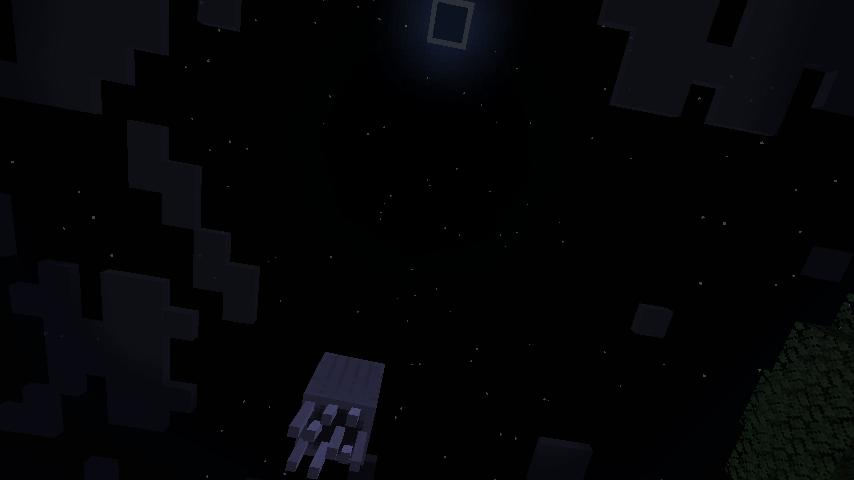ghast: (286, 348, 386, 480)
